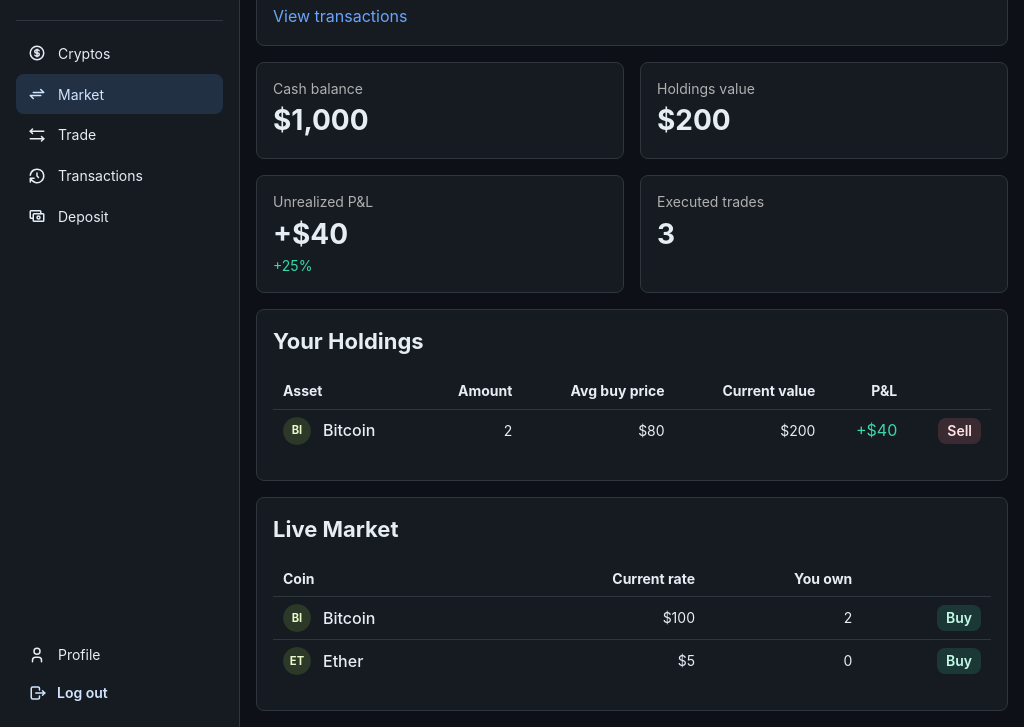
Scenario: MarketPage › buys, posts the order and shows the updated cash after refetch
(page scrolled)
Click the button with aria-label "Buy Ether" at (959, 661), box [937,648,981,674]
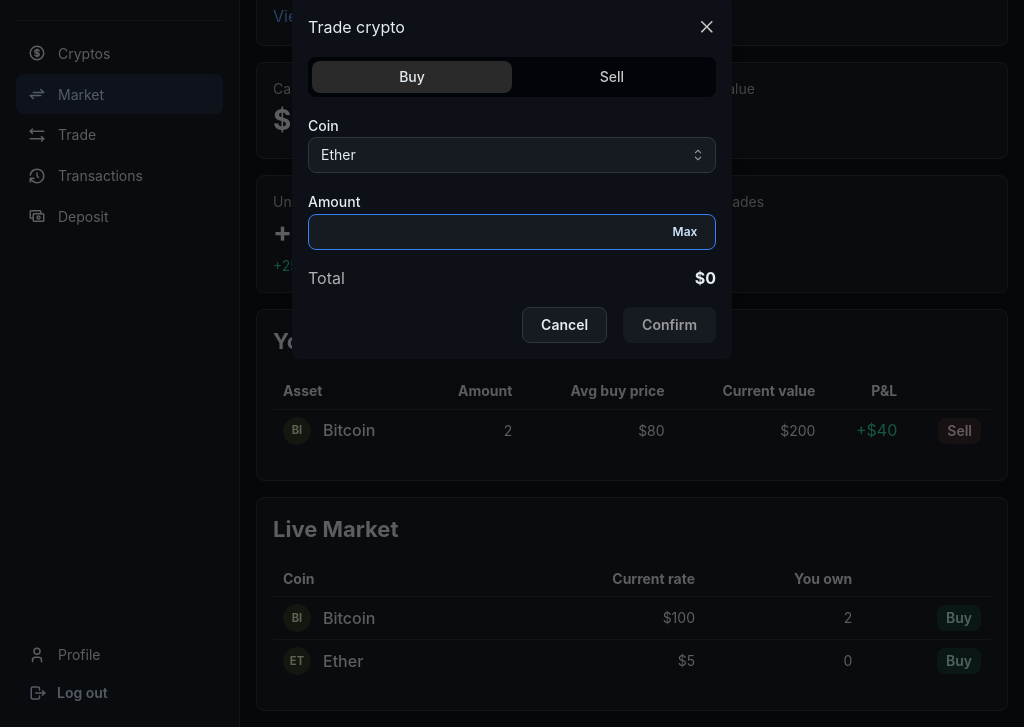
Type "5" into the field labelled "Amount" at (512, 233), box [308,215,716,251]
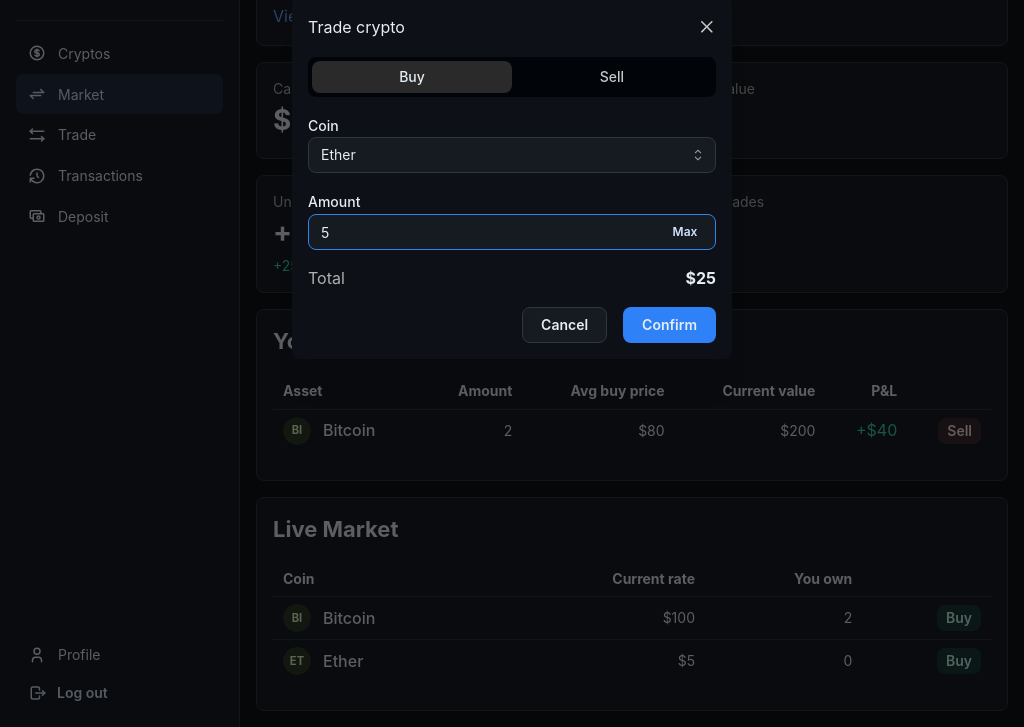
Now the text "$25" is shown, box [686,267,716,292]
Click the button "Confirm" at (670, 326), box [623,308,716,344]
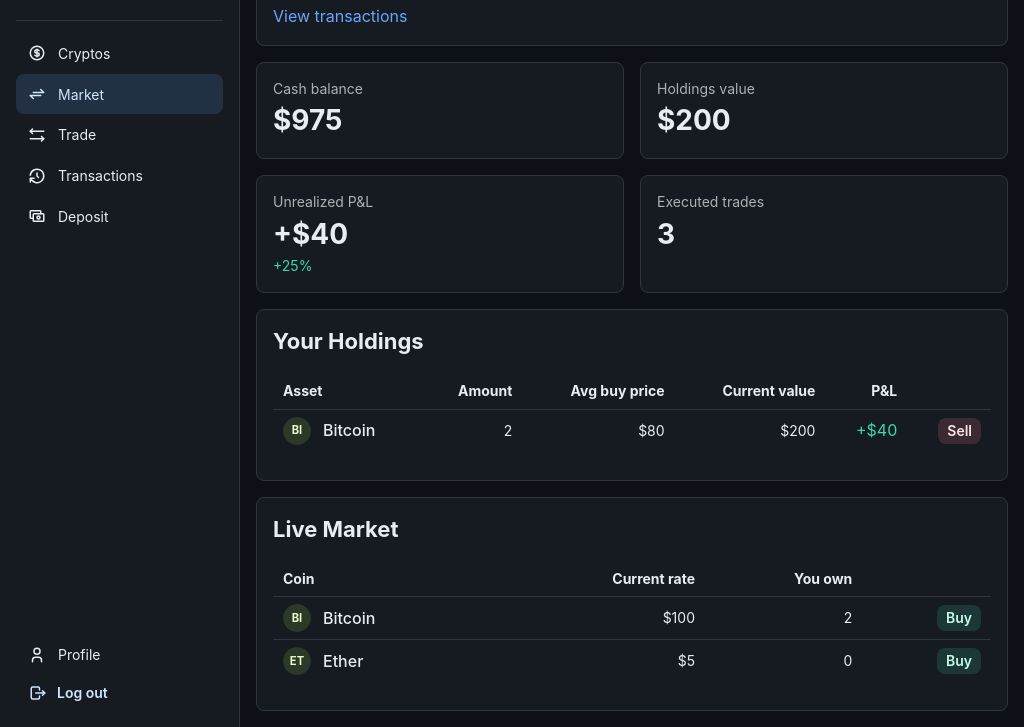
Now the text "$975" is shown, box [273,103,342,137]
